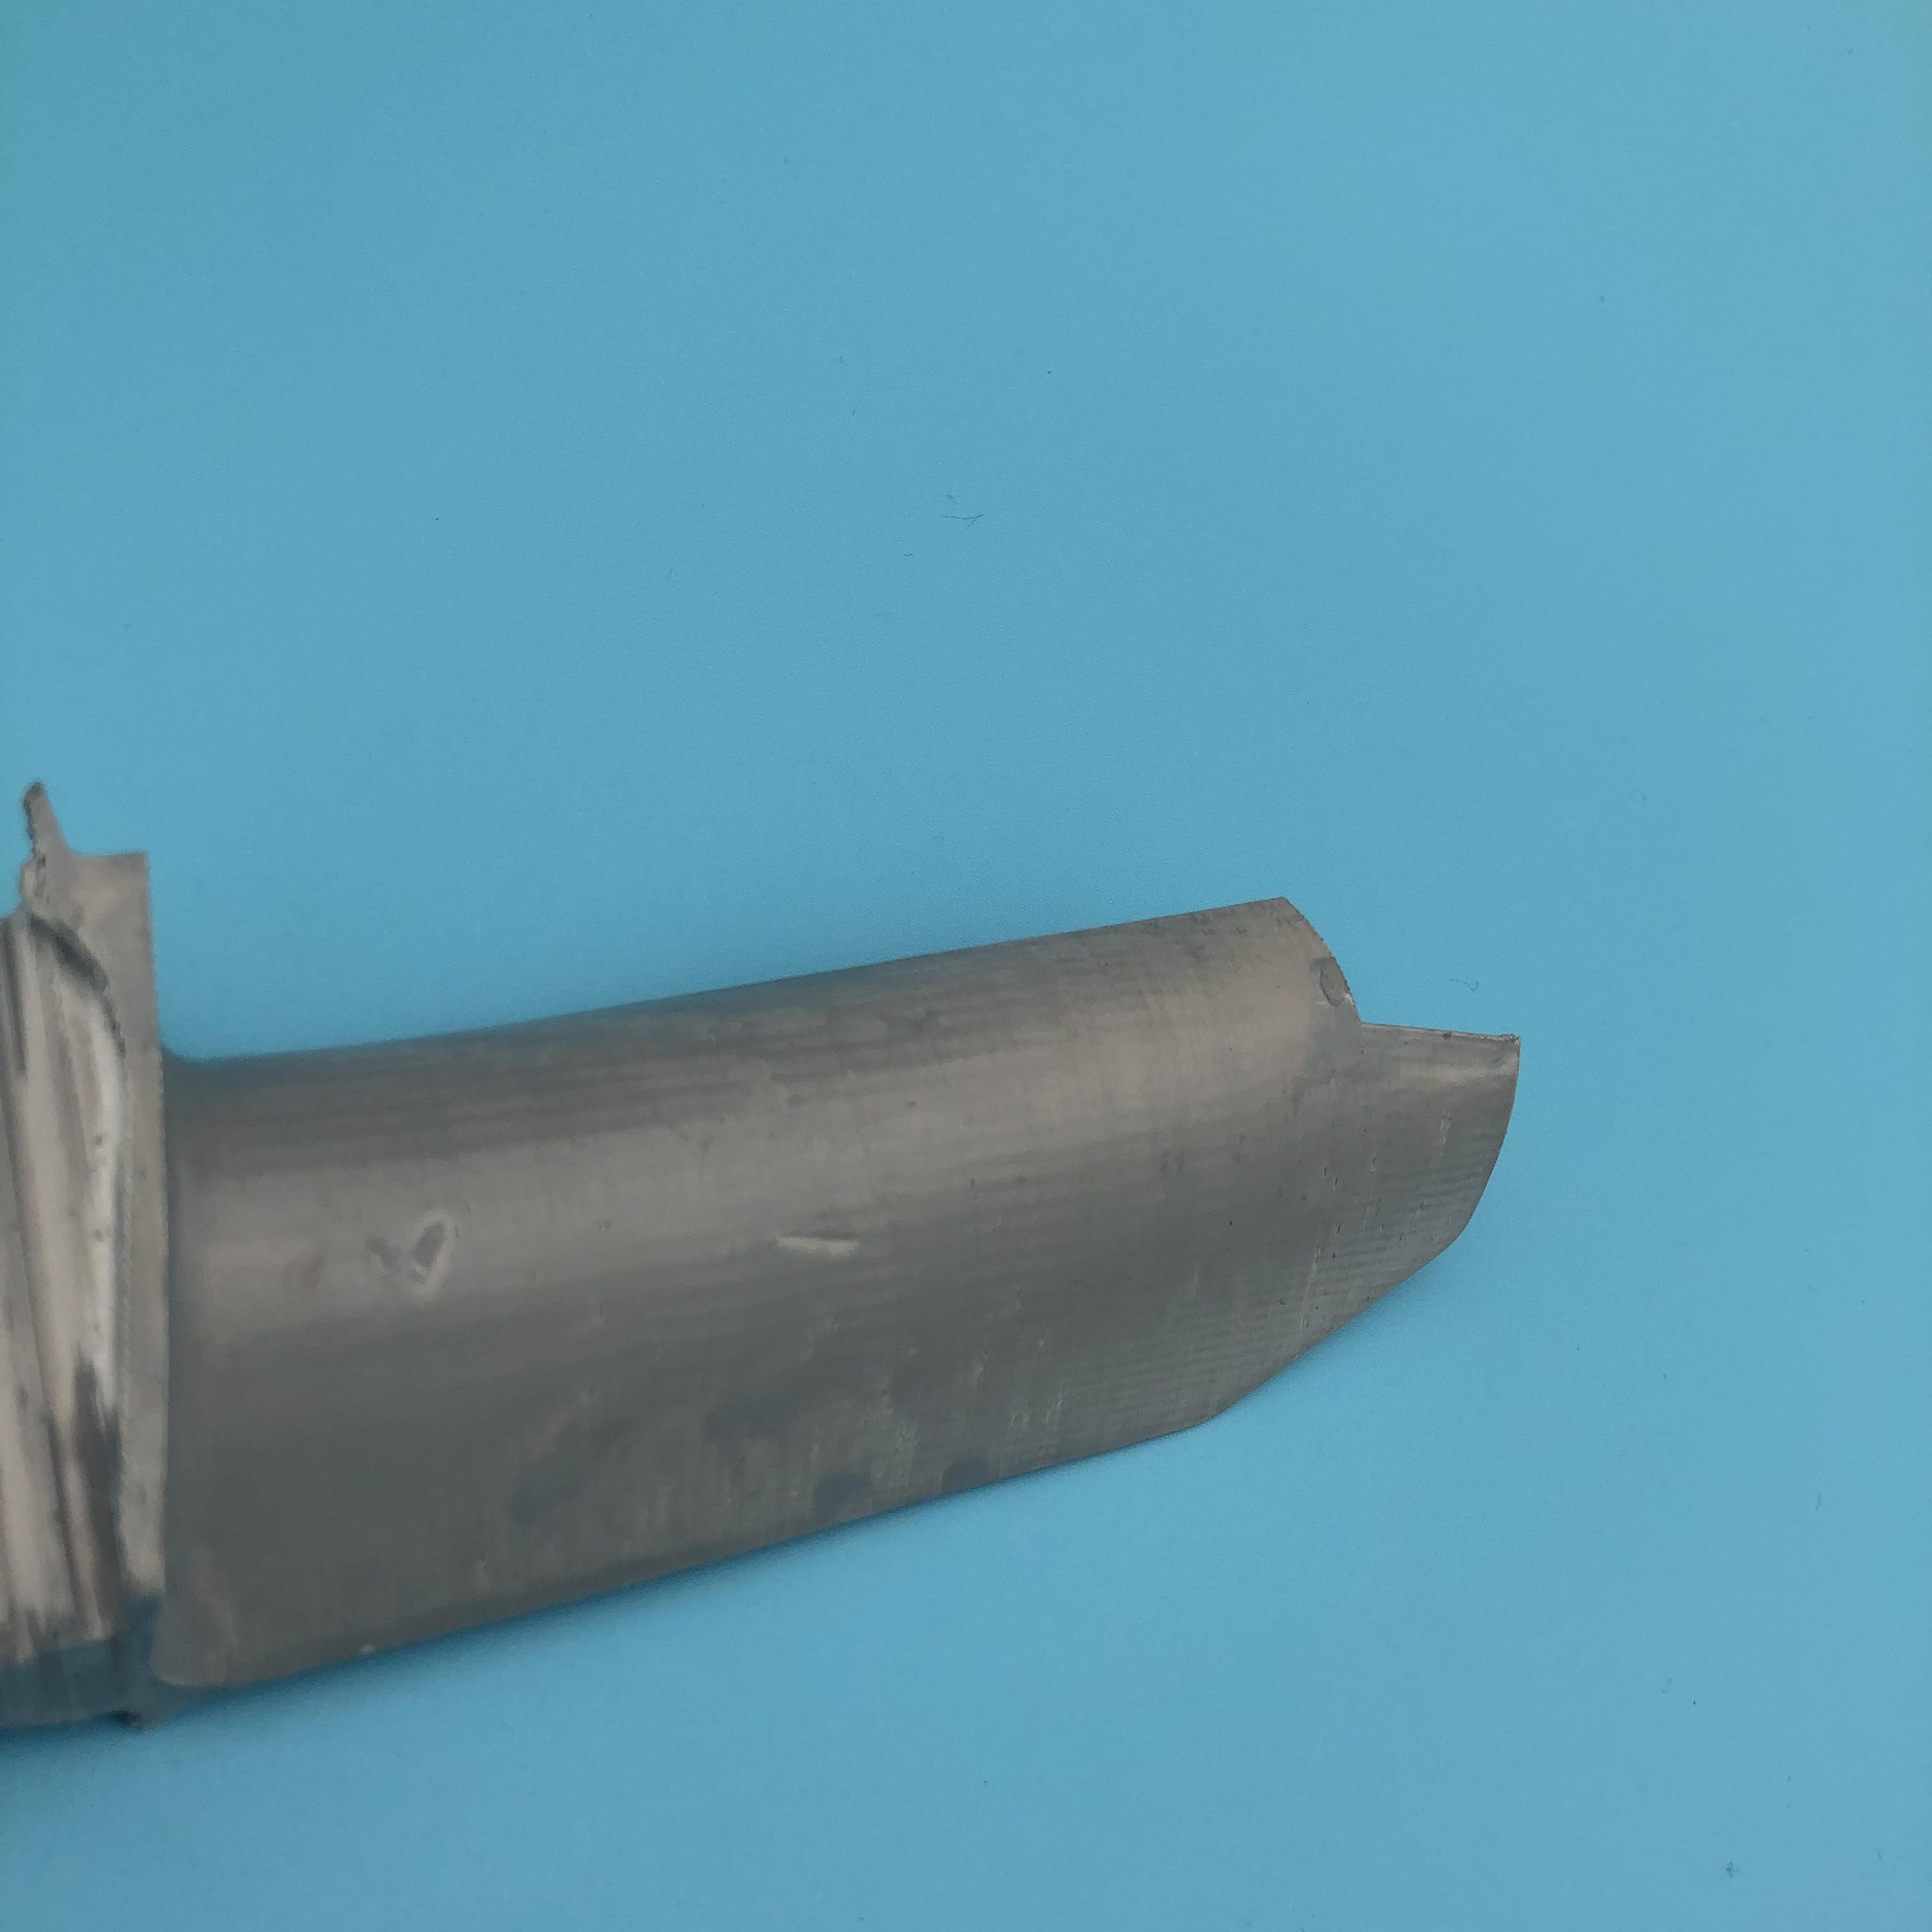fracture: (1233, 899, 1504, 1069)
